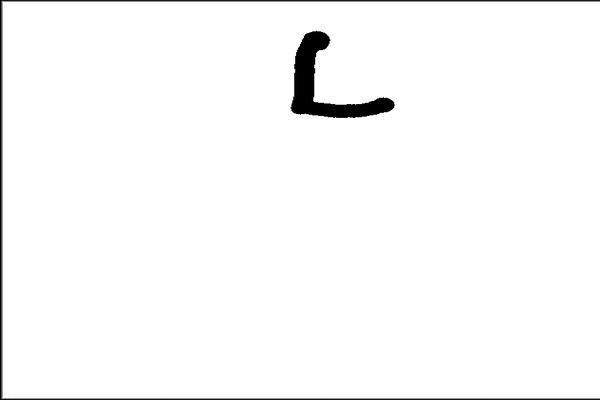L: (283, 23, 399, 124)
